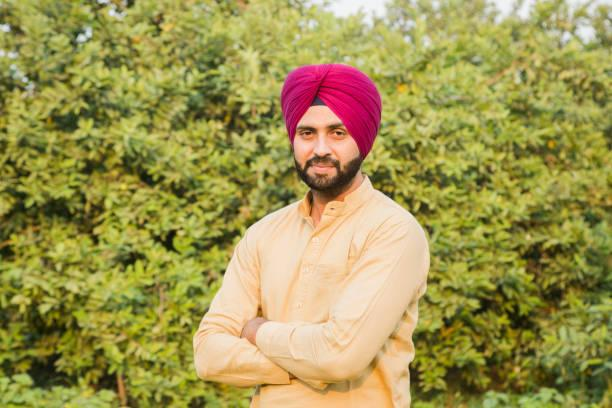Human: (195, 39, 431, 408)
